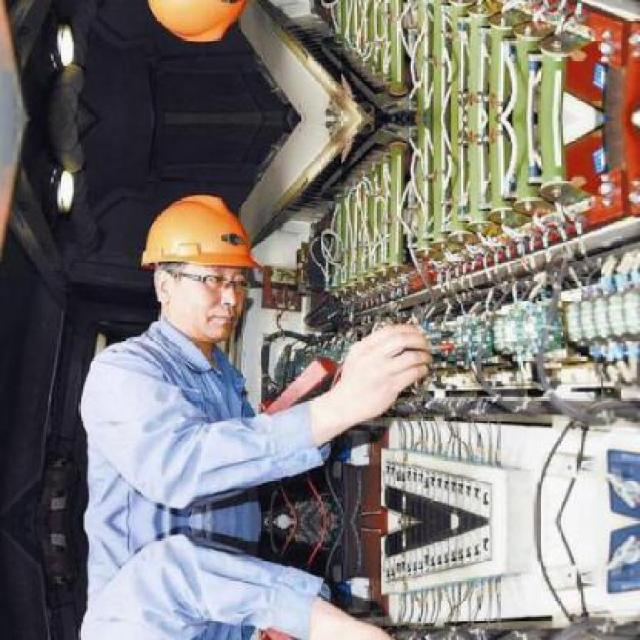helmet: (123, 168, 268, 358), (123, 0, 269, 66)
